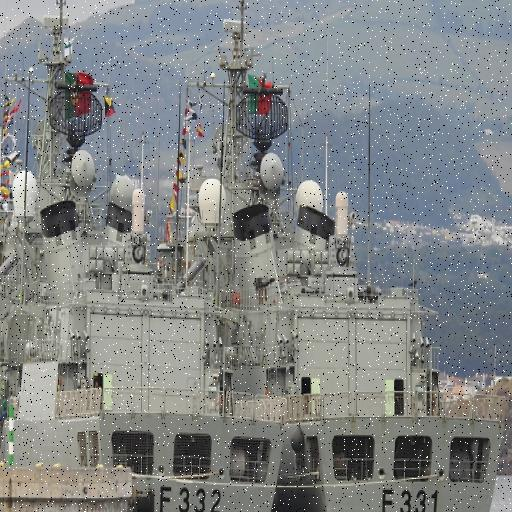Fragata: (213, 1, 509, 512), (1, 1, 283, 512)
